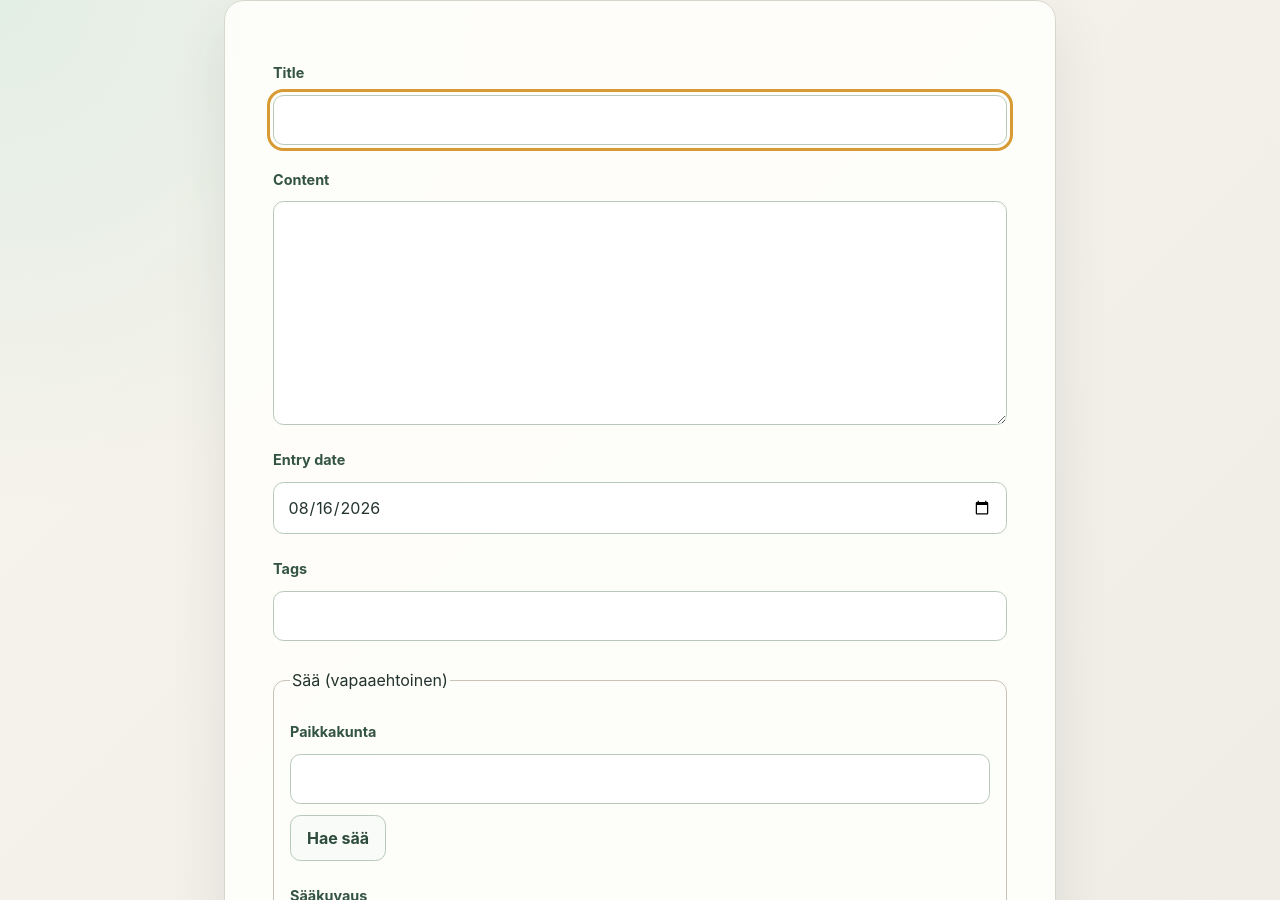
it: NewEntryForm › keeps form values when weather lookup fails
The image size is (1280, 900).
In the field labelled "Title": [640, 120] box [273,95,1007,145], type "Fictional title"
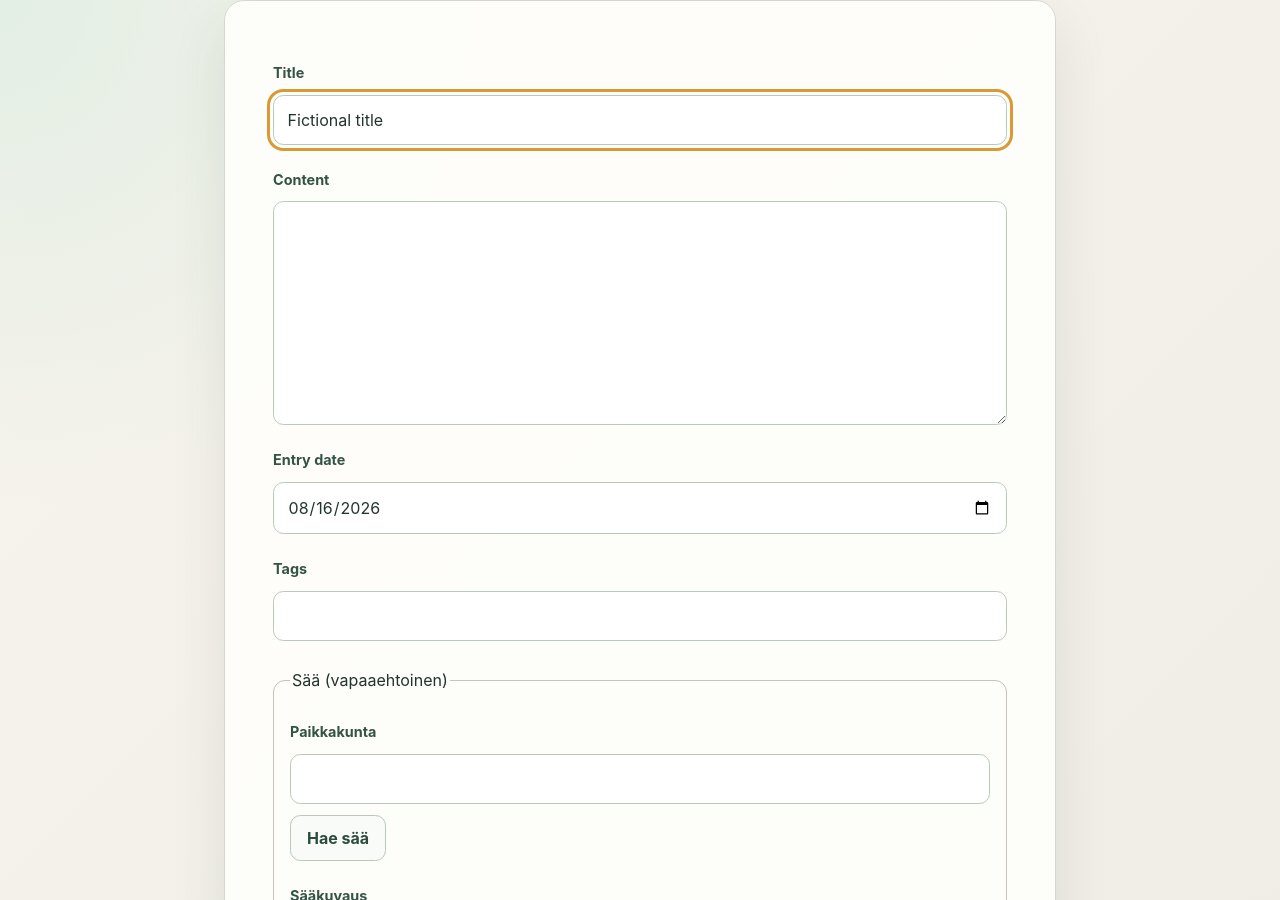
In the text box labelled "Content": [640, 313] box [273,201,1007,425], type "Fictional content"
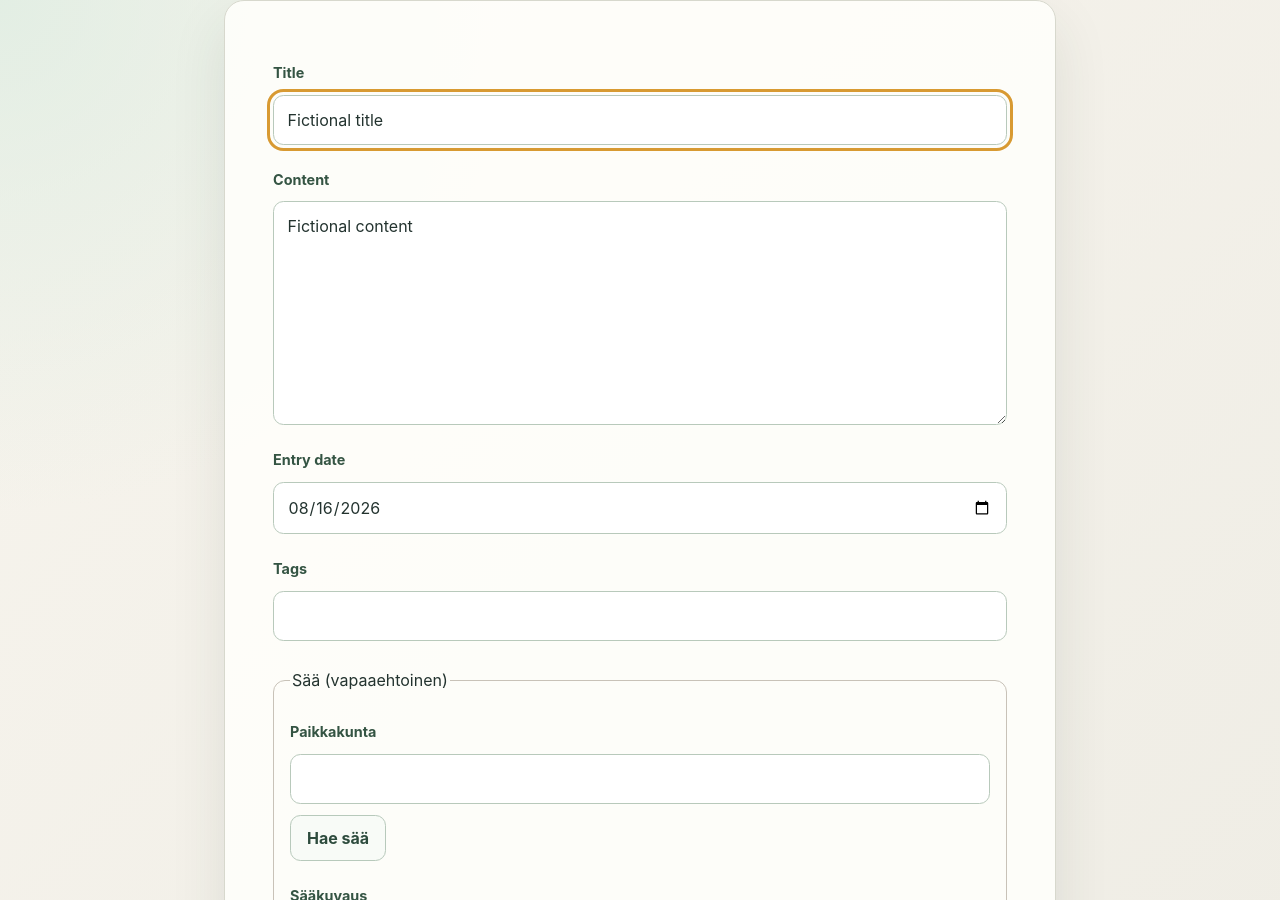
In the field labelled "Paikkakunta": [640, 779] box [290,754,990,804], type "Turku"
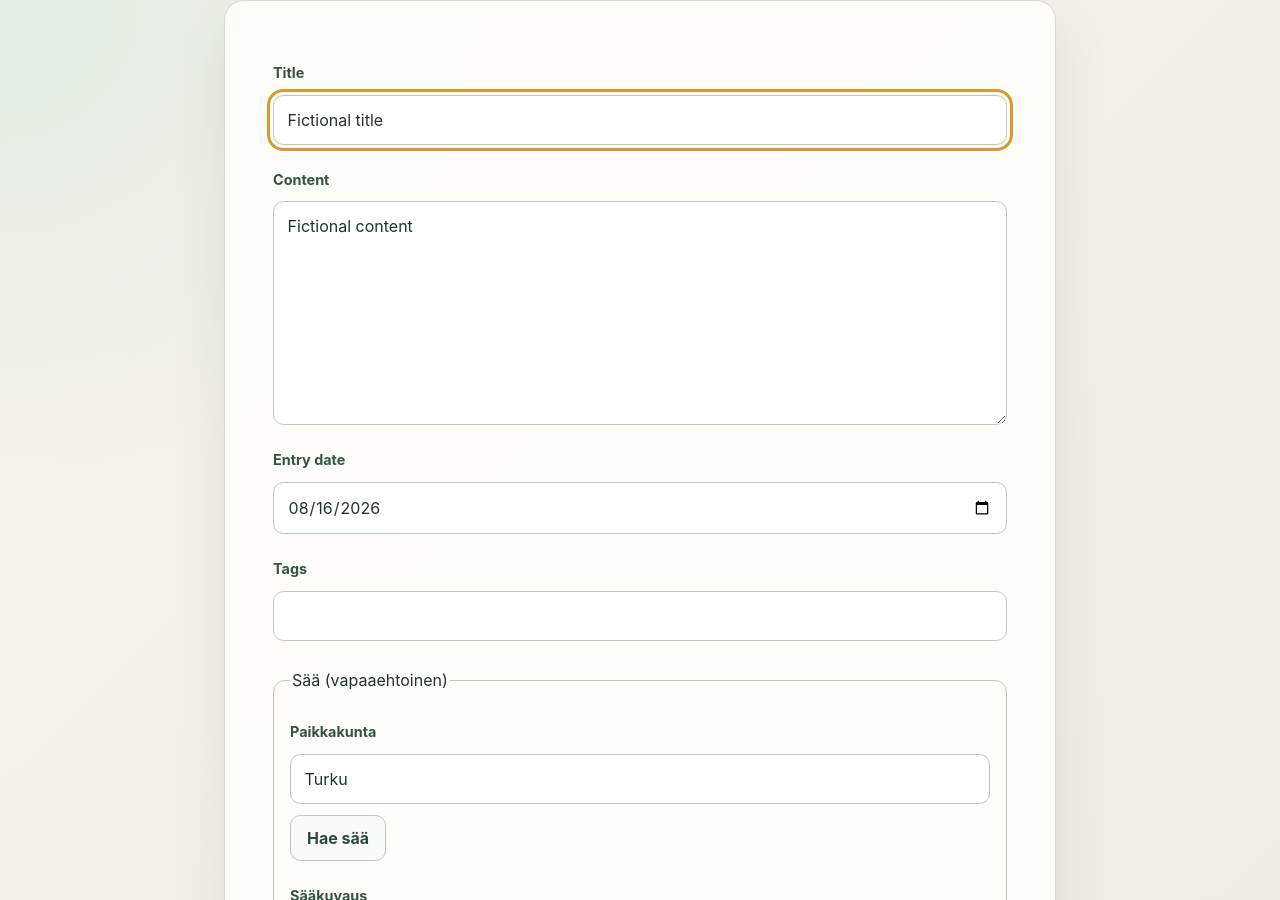
Click the button "Hae sää": [338, 838] box [290,815,386,861]
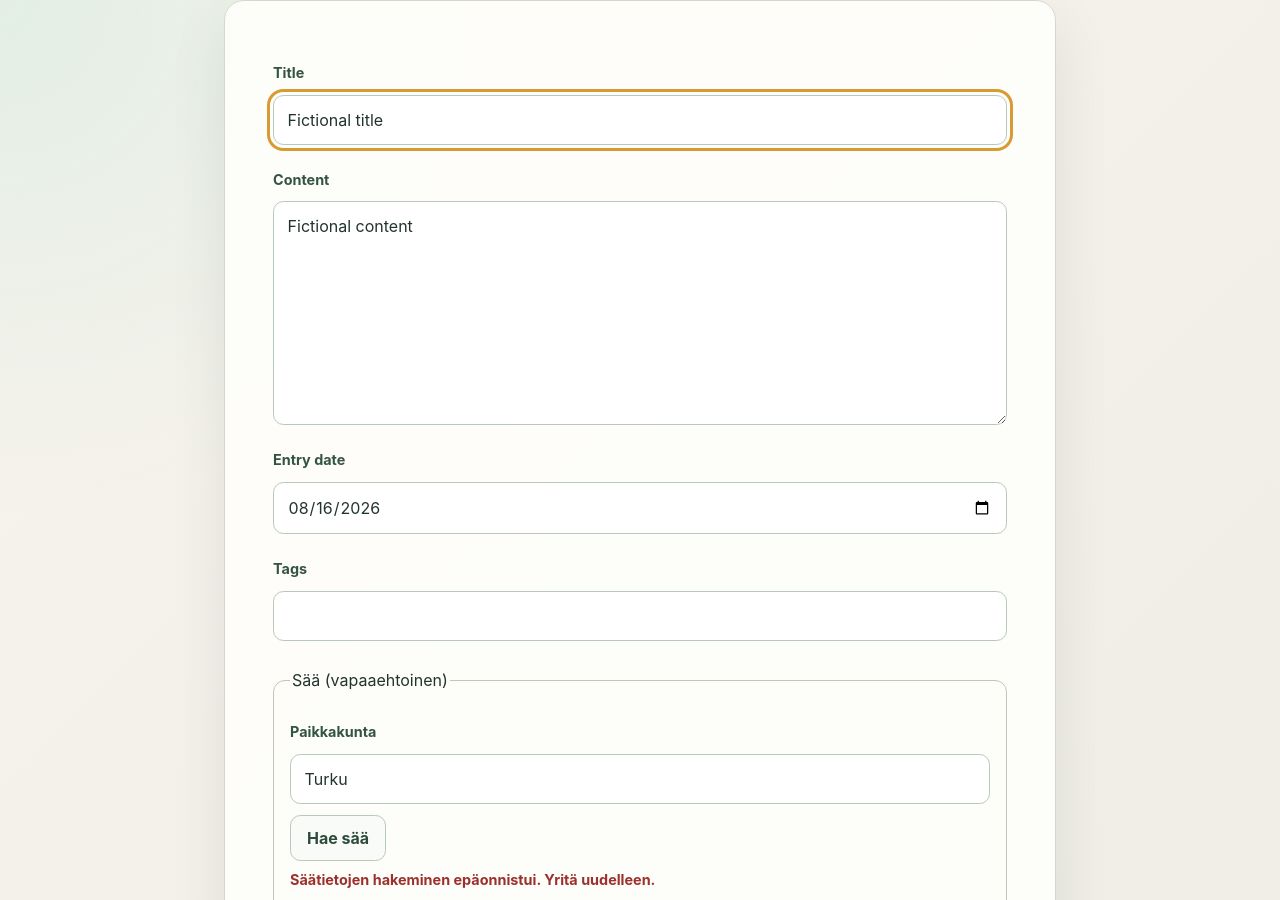
Expected: the message reads "Säätietojen hakeminen epäonnistui. Yritä uudelleen.", [290,871,655,888]
